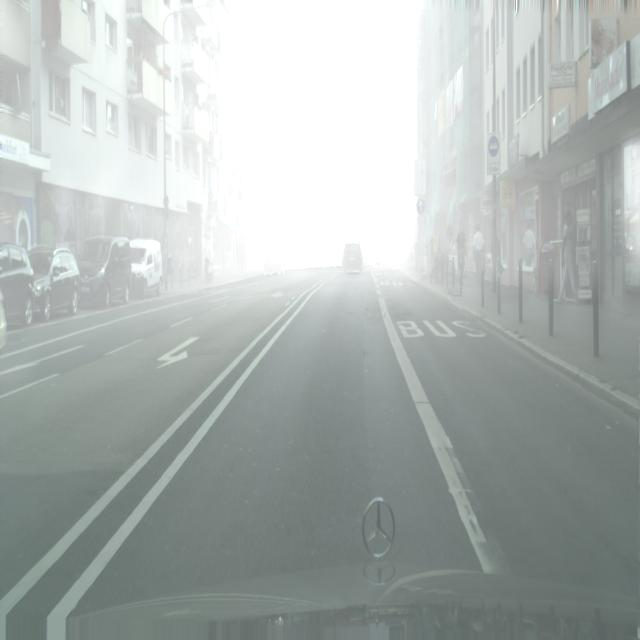bus: (557, 209, 579, 302), (472, 226, 485, 282), (522, 221, 536, 269), (456, 225, 466, 292)
person: (76, 234, 132, 309), (28, 245, 81, 321), (0, 243, 35, 328), (129, 238, 162, 298), (342, 241, 363, 274), (263, 245, 285, 276), (0, 287, 8, 352), (374, 245, 391, 264)
